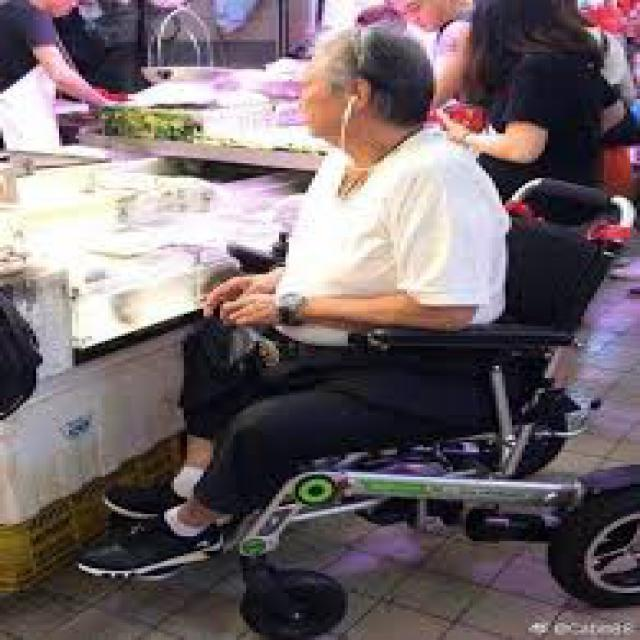wheelchairs: (204, 185, 636, 638)
